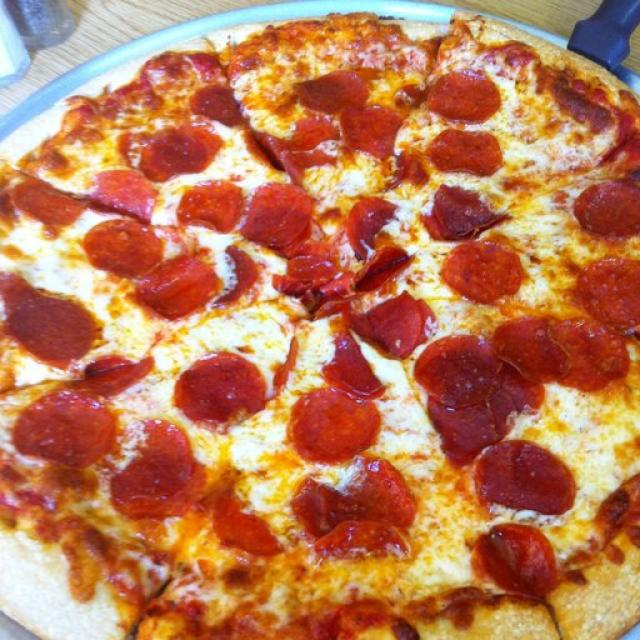Pepperoni: (282, 452, 418, 564), (407, 325, 507, 450), (8, 386, 115, 464), (466, 432, 572, 510), (436, 225, 530, 310), (285, 383, 383, 458), (468, 520, 560, 598), (343, 189, 416, 283), (181, 350, 265, 429), (120, 420, 190, 512), (10, 292, 98, 361), (246, 173, 322, 252), (313, 308, 378, 398), (135, 252, 215, 320), (549, 308, 631, 374), (271, 252, 355, 316), (486, 314, 565, 381), (348, 294, 430, 357), (568, 254, 640, 324), (132, 115, 210, 178), (85, 213, 163, 274), (420, 188, 499, 242), (571, 178, 640, 238), (425, 123, 505, 172), (288, 66, 380, 108), (334, 106, 406, 158), (431, 70, 499, 123), (579, 176, 640, 234), (174, 175, 240, 228), (13, 181, 87, 225), (94, 164, 152, 213), (190, 74, 240, 121)
Pizza: (0, 12, 640, 640)
